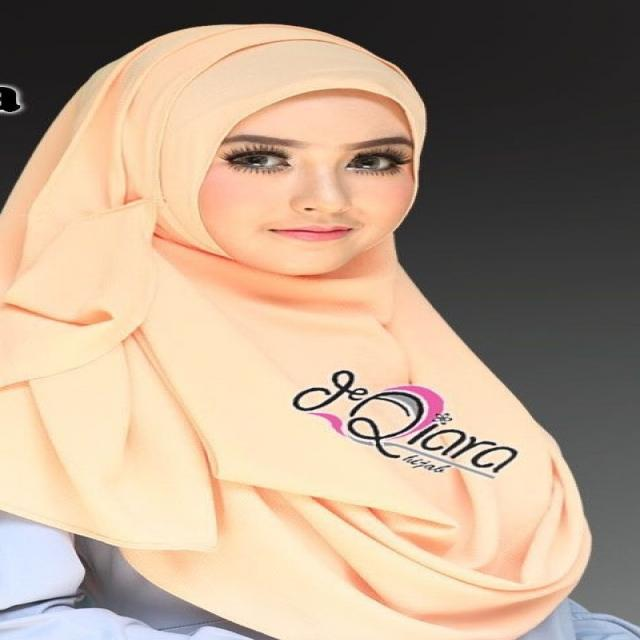head: (106, 26, 448, 284)
